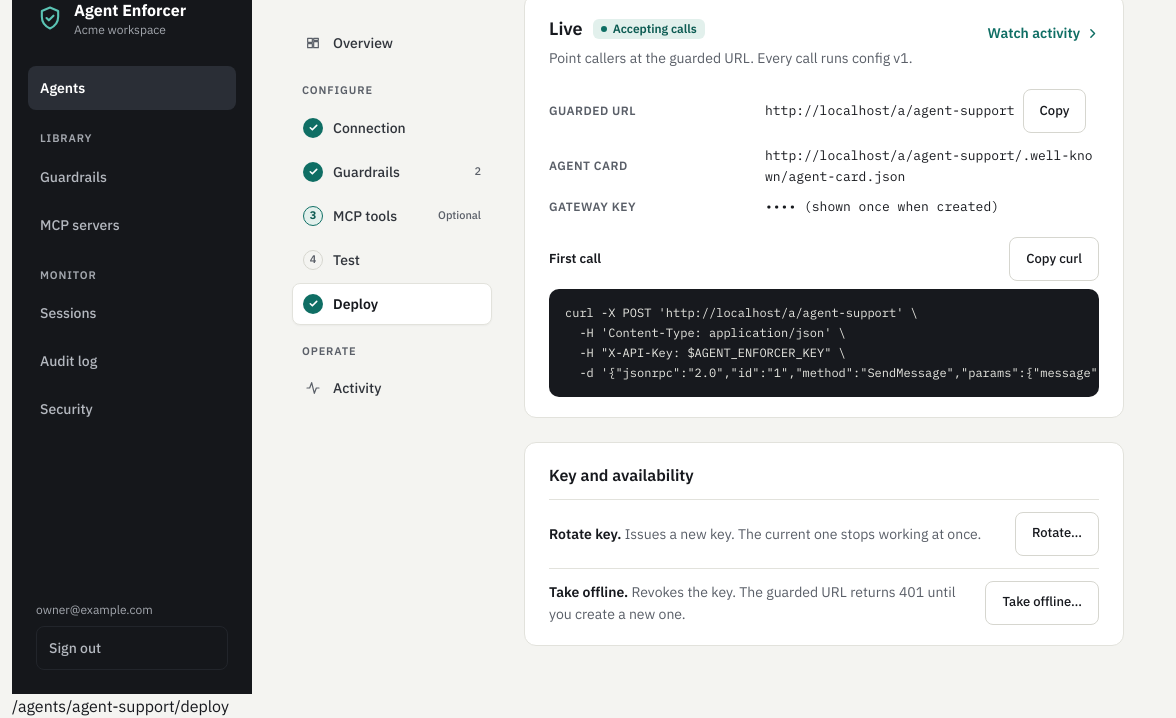
Scenario: Agent go live step › takes the agent offline by revoking its key
(page scrolled)
Click the button "Take offline…" at x=1042, y=603, box [985,581,1099,625]
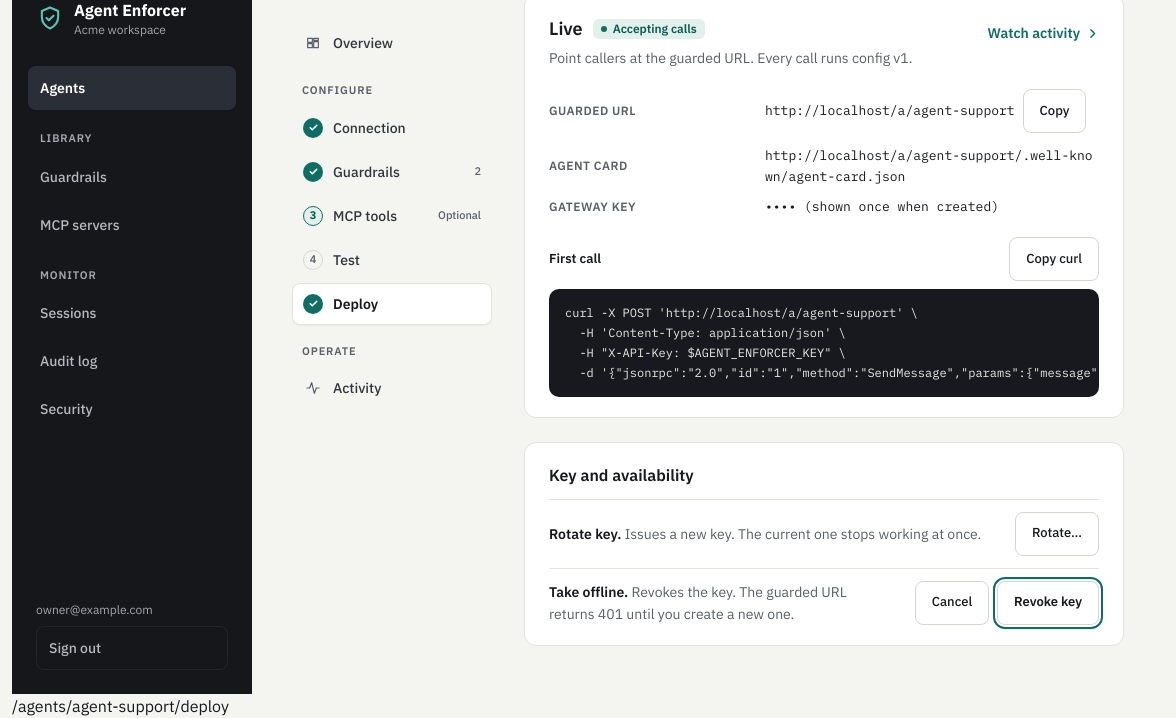
Click the button "Revoke key" at x=1048, y=603, box [997,581,1099,625]
(page scrolled)
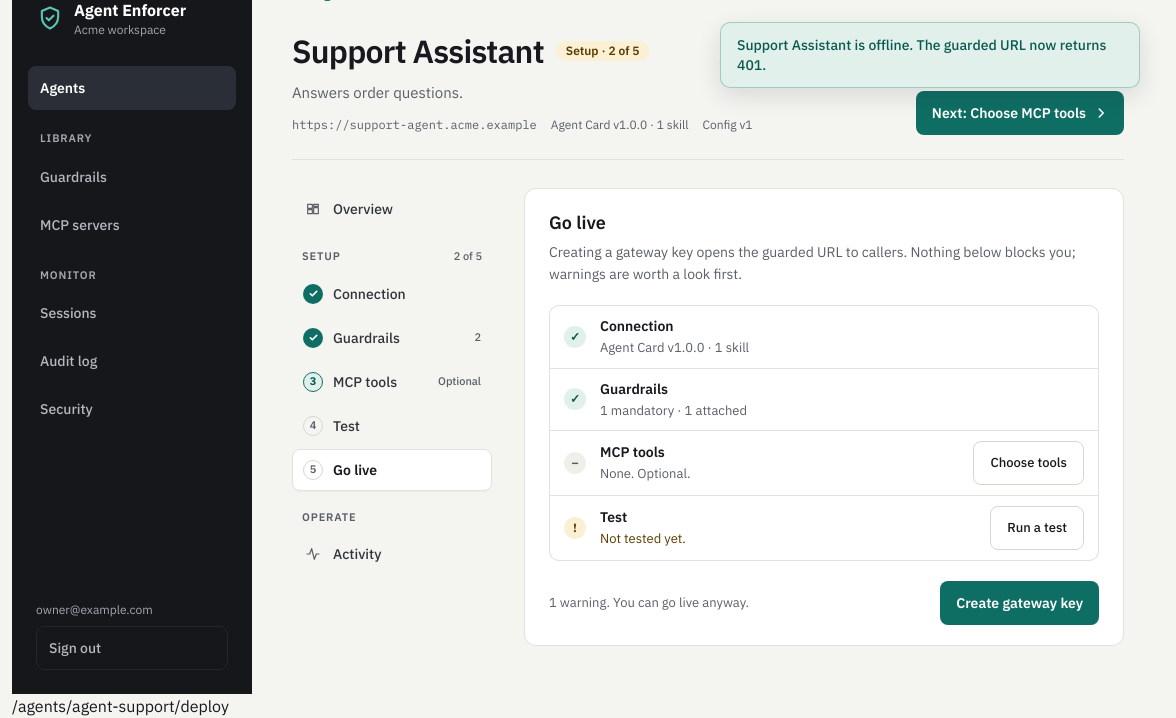
Expected: the button "Create gateway key" is shown, [940,581,1099,625]
Expected: the message reads "Support Assistant is offline. The guarded URL now returns 401.", [737,36,1106,74]
